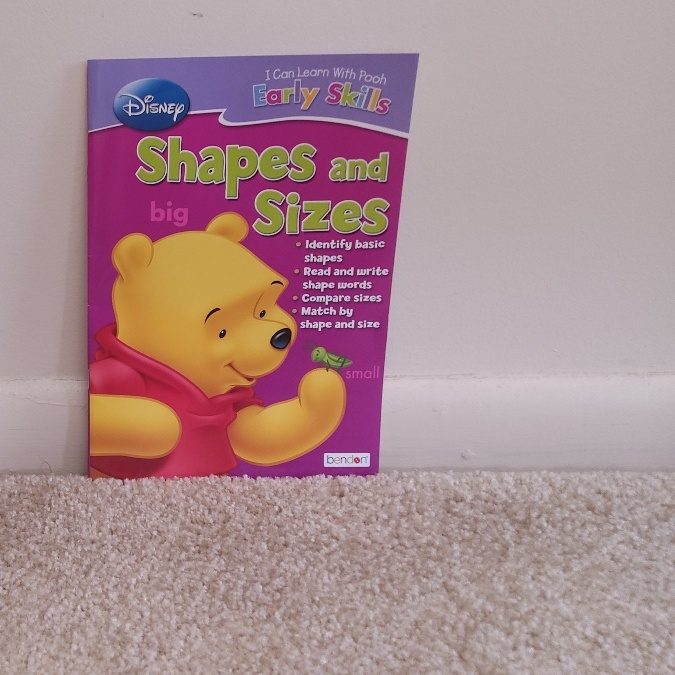book: (91, 62, 377, 478)
